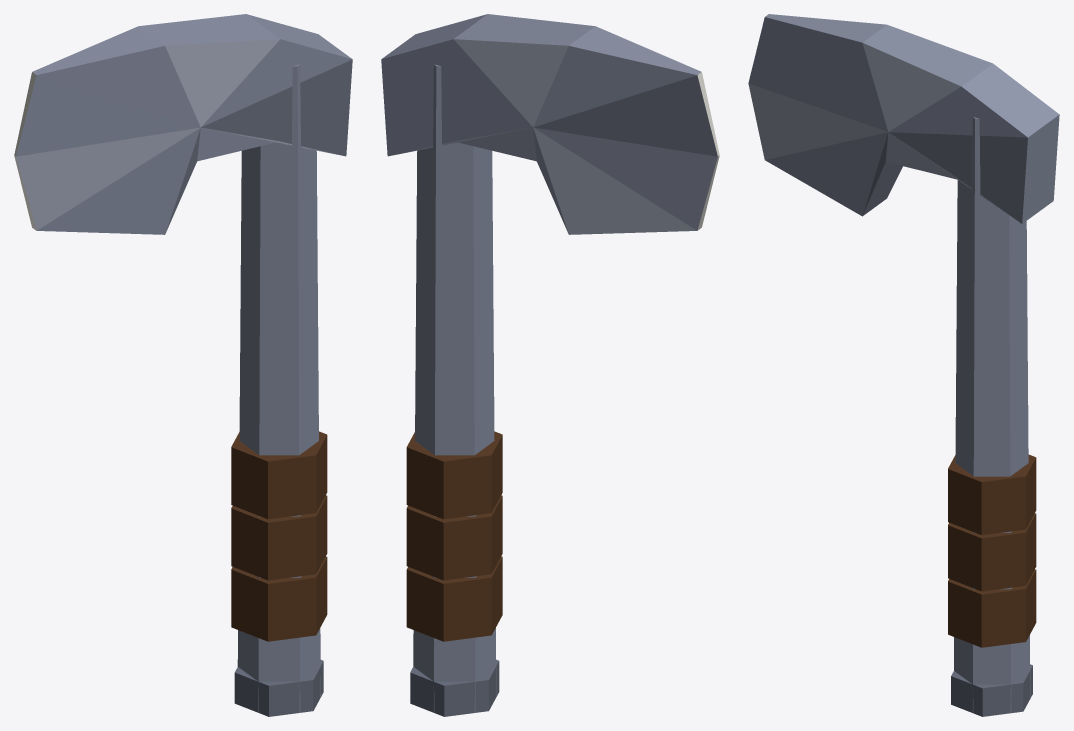
The model's file is wpn_axe_iron_01.fbx.
3 renders of one model, left to right at view 1: azimuth 30°, elevation 25°; view 2: azimuth 150°, elevation 25°; view 3: azimuth 330°, elevation 25°, orthographic. The views are drawn at different scales.
Parts seen in each view (by area): view 1: wpn_axe_iron_01; view 2: wpn_axe_iron_01; view 3: wpn_axe_iron_01.
Boxes of the visible parts, x1,y1,x2,y2 form: wpn_axe_iron_01: (14, 14, 352, 716); wpn_axe_iron_01: (381, 14, 719, 716); wpn_axe_iron_01: (748, 14, 1059, 716).
Size of the model in its own units: 0.3015 by 0.0783 by 0.623.
1 material, 1 textured.
